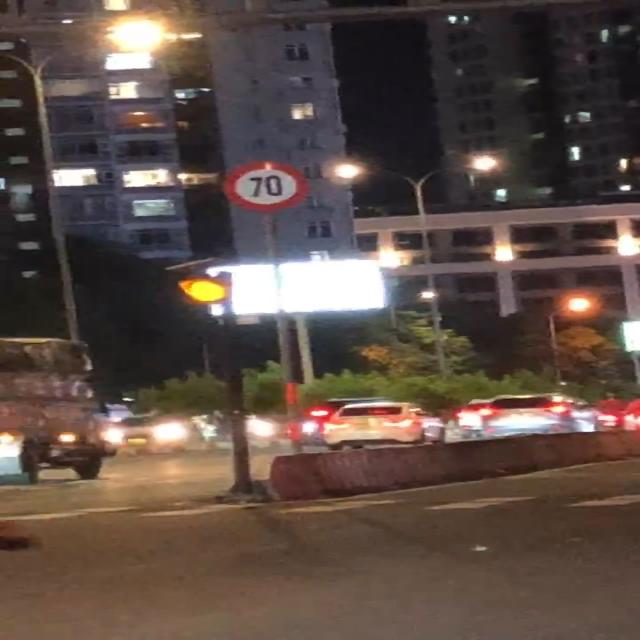Bien bao toc do toi da cho phep: (220, 156, 312, 212)
